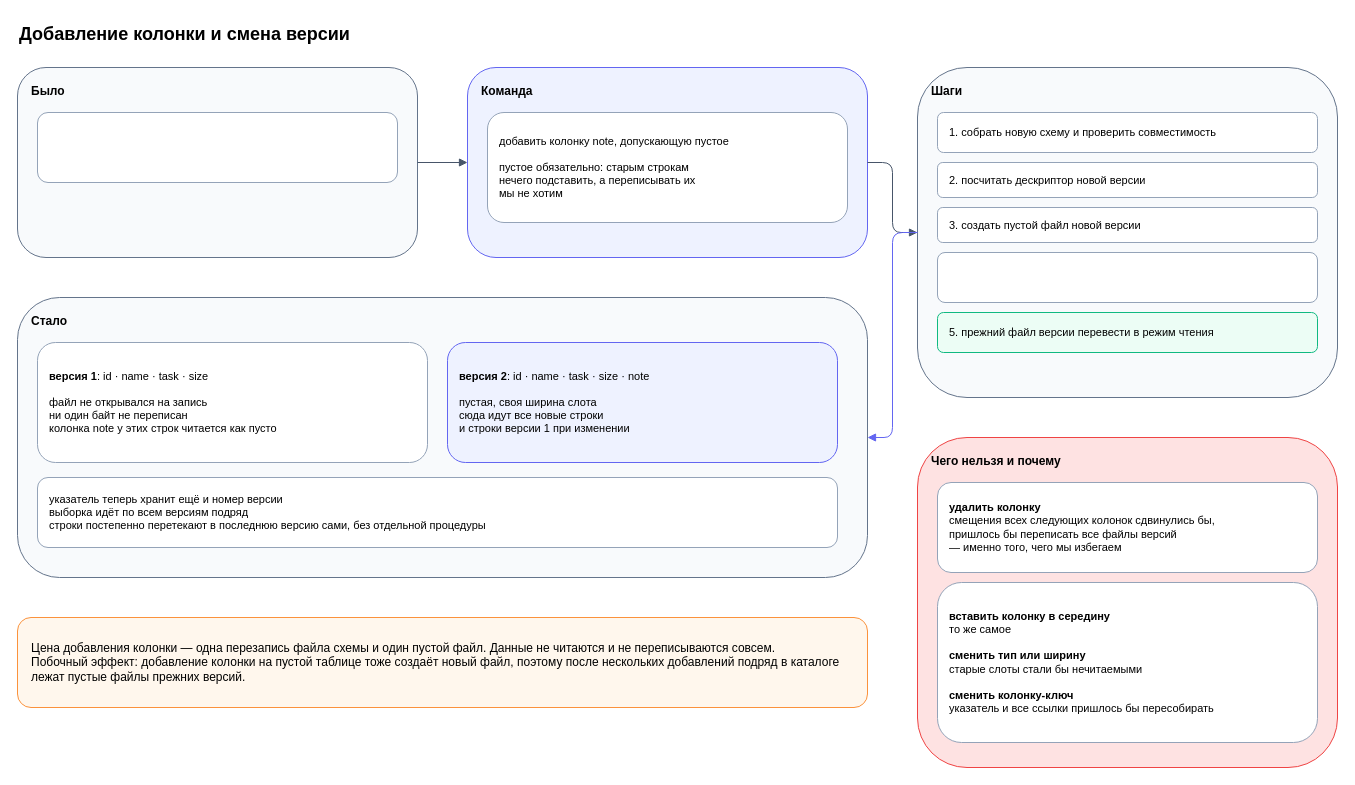
The diagram is 1355 pixels wide and 785 high, and some of its shapes have lost their labels. Each missing label, with the centre of its shape:
4. переписать файл схемы: номер версии и новая запись в истории колонок: [1127,277]
схема: id · name · task · size версия 1 — единственная все строки в ней: [217,147]
